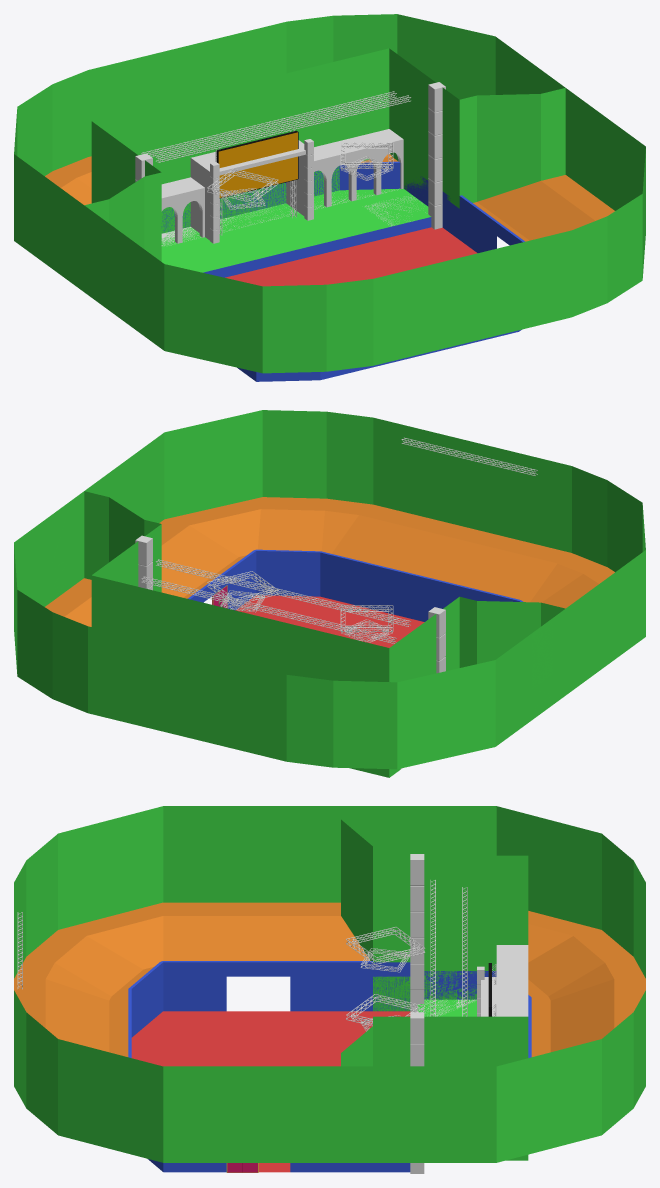
The model's file is LiveHall.fbx.
3 views of the same model, one above another, from view 1: azimuth 30°, elevation 25°; view 2: azimuth 150°, elevation 25°; view 3: azimuth 270°, elevation 25° (orthographic). The views are drawn at different scales.
Parts seen in each view (by area): view 1: Plane, LiveHall_Base, Plane.001, Cylinder.001, Plane.002, Cube.004, Trus_Long, Trus_Long.001, Cylinder, Trus_Square.001, Cube, Cube.001 (+1 smaller); view 2: Plane, LiveHall_Base, Trus_Long.001, Trus_Long, Trus_Middle, Cube.004, Trus_Square, Cube.002, Trus_Square.001; view 3: Plane, LiveHall_Base, Cube.002, Plane.002, Cylinder, Trus_Square.001, Cube.004, Trus_Square, Trus_Long, Trus_Long.001.
Part boxes in pixels (left/top/right/bottom): Plane: left=84, top=48, right=645, bottom=381; LiveHall_Base: left=14, top=14, right=588, bottom=305; Plane.001: left=216, top=130, right=298, bottom=198; Cylinder.001: left=314, top=129, right=403, bottom=207; Plane.002: left=190, top=140, right=305, bottom=240; Cube.004: left=428, top=82, right=445, bottom=229; Trus_Long: left=155, top=95, right=410, bottom=162; Trus_Long.001: left=141, top=91, right=396, bottom=156; Cylinder: left=161, top=177, right=204, bottom=243; Trus_Square.001: left=207, top=168, right=278, bottom=203; Cube: left=304, top=139, right=313, bottom=220; Cube.001: left=210, top=162, right=219, bottom=243; Plane: left=84, top=410, right=645, bottom=777; LiveHall_Base: left=14, top=475, right=588, bottom=769; Trus_Long.001: left=141, top=576, right=396, bottom=643; Trus_Long: left=155, top=559, right=411, bottom=626; Trus_Middle: left=401, top=437, right=537, bottom=475; Cube.004: left=135, top=535, right=152, bottom=590; Trus_Square: left=207, top=571, right=278, bottom=605; Cube.002: left=428, top=607, right=445, bottom=673; Trus_Square.001: left=340, top=605, right=393, bottom=631; Plane: left=14, top=806, right=528, bottom=1172; LiveHall_Base: left=131, top=806, right=645, bottom=1172; Cube.002: left=410, top=854, right=424, bottom=1012; Plane.002: left=481, top=977, right=528, bottom=1016; Cylinder: left=496, top=945, right=528, bottom=976; Trus_Square.001: left=346, top=927, right=424, bottom=964; Cube.004: left=410, top=1012, right=424, bottom=1173; Trus_Square: left=346, top=994, right=424, bottom=1026; Trus_Long: left=430, top=880, right=435, bottom=1016; Trus_Long.001: left=462, top=887, right=467, bottom=1016.
Bounding box in the file's own units: 38.8 × 10.8 × 39.8.
